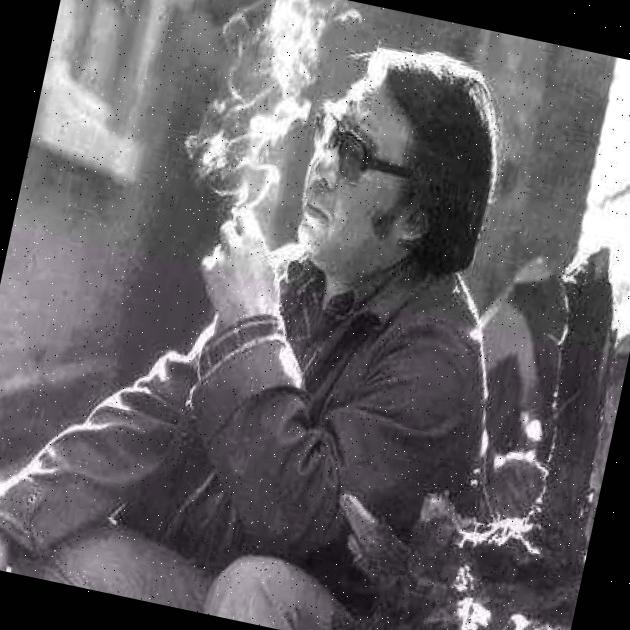smoke: (180, 0, 332, 222)
